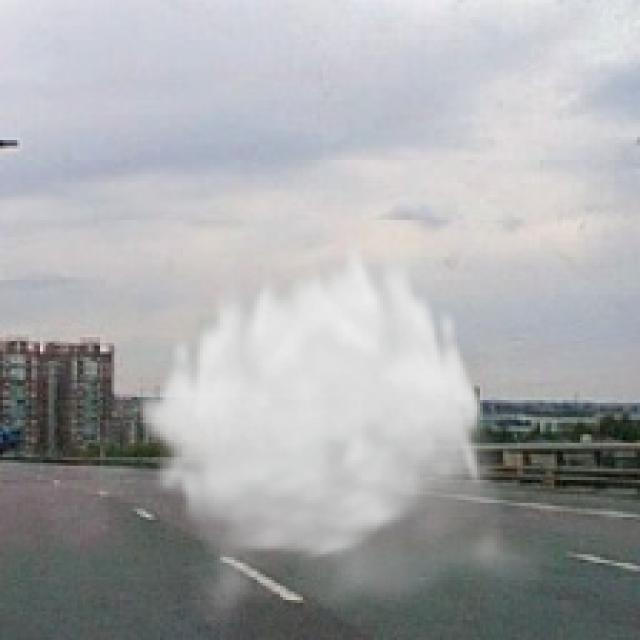Smoke: (135, 234, 560, 637)
